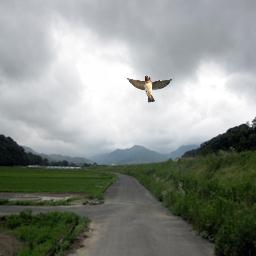Swallow: (124, 75, 174, 103)
